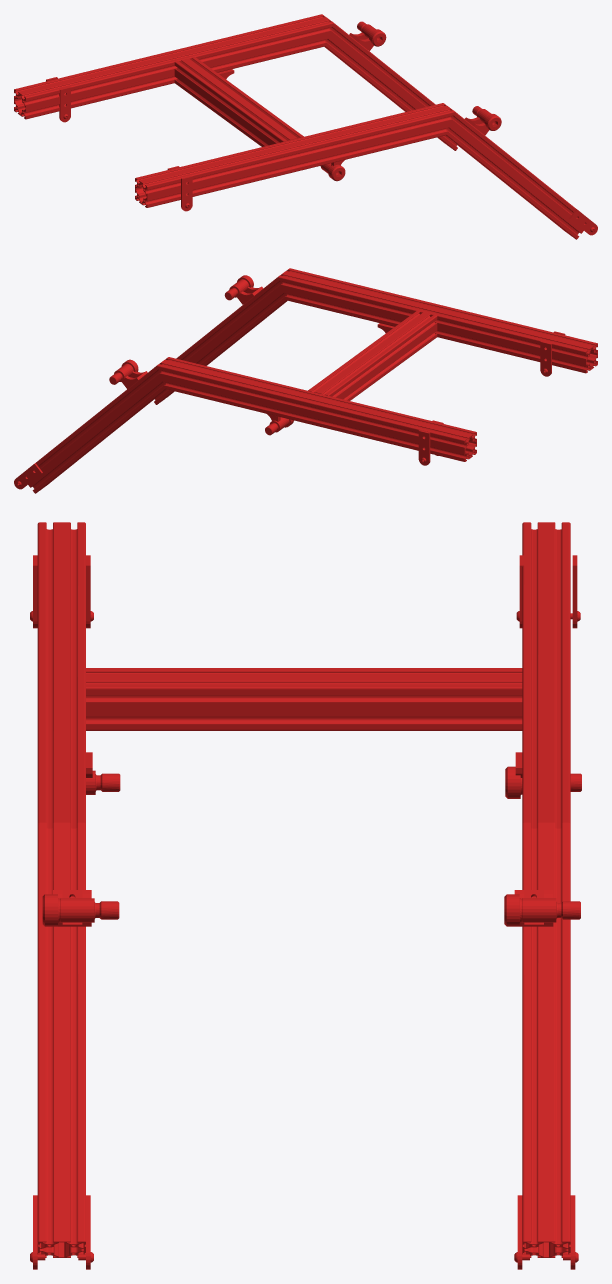
Rendered from arms.dae.
The picture shows the model from 3 angles, top to bottom: view 1: azimuth 30°, elevation 25°; view 2: azimuth 150°, elevation 25°; view 3: azimuth 270°, elevation 25°; orthographic projection. The views are drawn at different scales.
Parts seen in each view (by area): view 1: arms; view 2: arms; view 3: arms.
Part boxes in pixels (left/top/right/bottom): arms: left=14, top=14, right=597, bottom=239; arms: left=14, top=268, right=597, bottom=493; arms: left=30, top=522, right=581, bottom=1269.
Bounding box in the file's own units: 1.07 × 0.5704 × 0.3609.
